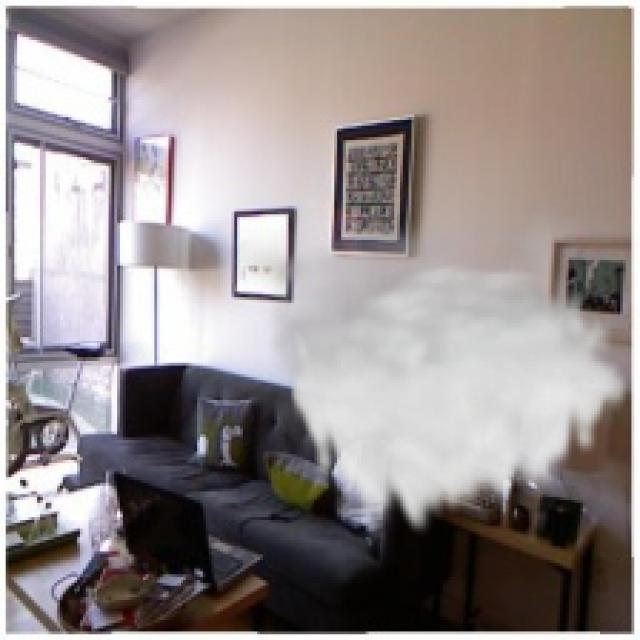Smoke: (214, 197, 632, 540)
